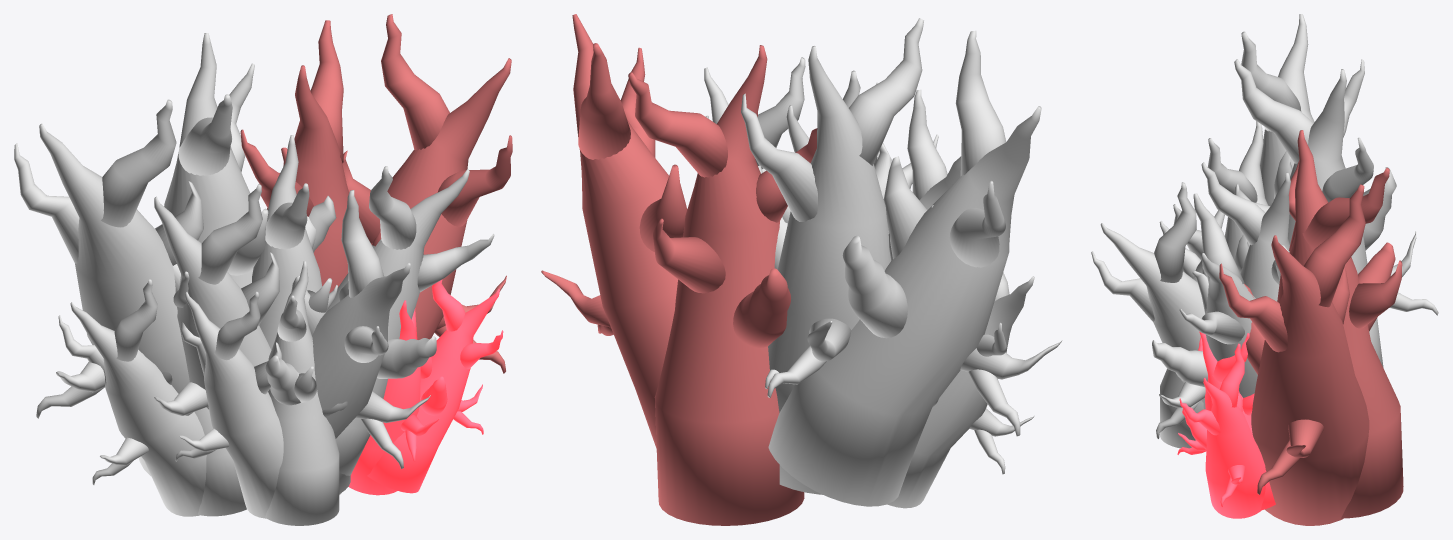
File: coral1.fbx
3 renders of one model, left to right at view 1: azimuth 30°, elevation 25°; view 2: azimuth 150°, elevation 25°; view 3: azimuth 270°, elevation 25°, orthographic. The views are drawn at different scales.
Visible parts, largest first — view 1: Cylinder.004, Cylinder.005, Cylinder.001, Cylinder.002, Cylinder, Cylinder.003, Cylinder.006; view 2: Cylinder.004, Cylinder.005, Cylinder.003, Cylinder, Cylinder.001; view 3: Cylinder.005, Cylinder.001, Cylinder.004, Cylinder.006, Cylinder, Cylinder.002.
Boxes of the visible parts, <box> form: Cylinder.004: <box>14,33,336,476</box>; Cylinder.005: <box>240,14,512,373</box>; Cylinder.001: <box>265,166,494,494</box>; Cylinder.002: <box>175,261,347,525</box>; Cylinder: <box>154,135,350,493</box>; Cylinder.003: <box>58,271,246,516</box>; Cylinder.006: <box>348,279,503,495</box>; Cylinder.004: <box>741,18,1062,506</box>; Cylinder.005: <box>541,14,817,525</box>; Cylinder.003: <box>887,233,1034,508</box>; Cylinder: <box>765,82,960,388</box>; Cylinder.001: <box>704,57,938,188</box>; Cylinder.005: <box>1219,130,1403,525</box>; Cylinder.001: <box>1091,182,1257,438</box>; Cylinder.004: <box>1234,14,1438,367</box>; Cylinder.006: <box>1177,331,1275,518</box>; Cylinder: <box>1201,121,1290,301</box>; Cylinder.002: <box>1159,204,1224,448</box>.
Size of the model in its own units: 984 by 909 by 723.
